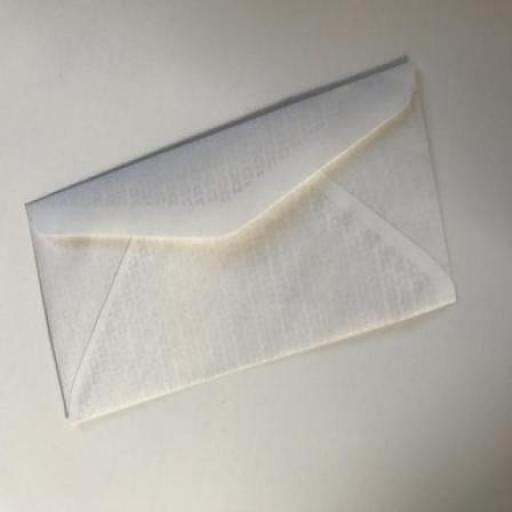paper: (0, 54, 470, 412)
